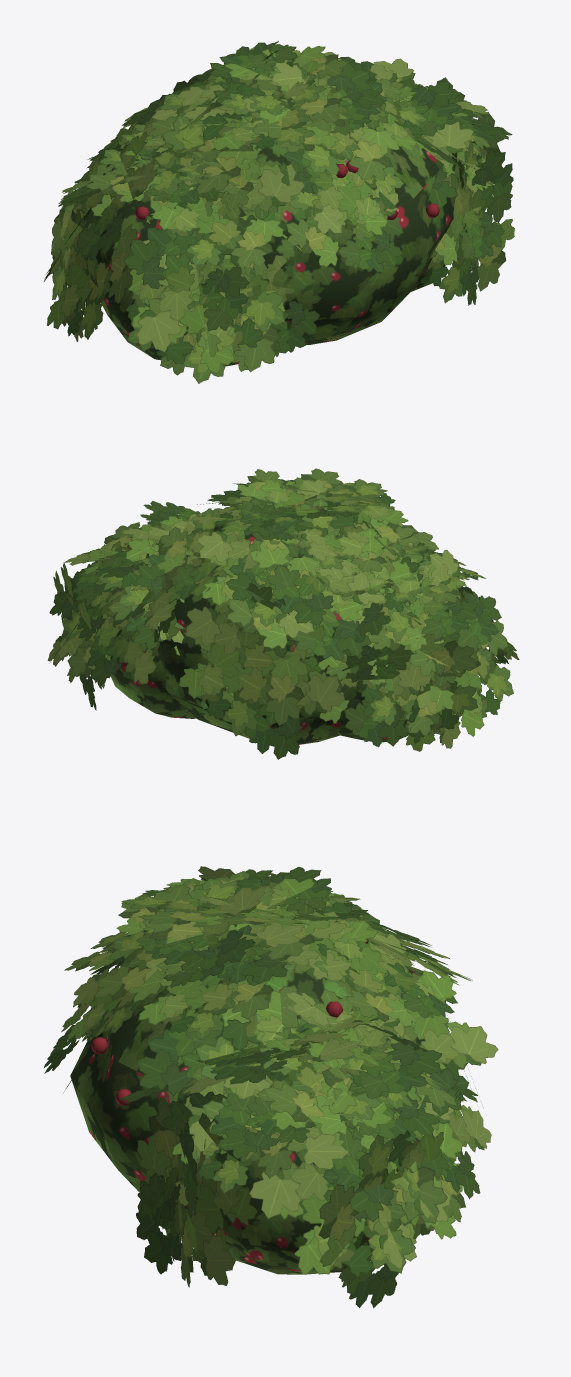
Rendered from bush_berry.glb.
3 views of the same model, one above another, from view 1: azimuth 30°, elevation 25°; view 2: azimuth 150°, elevation 25°; view 3: azimuth 270°, elevation 25° (orthographic). The views are drawn at different scales.
Visible parts, largest first — view 1: model; view 2: model; view 3: model.
Boxes of the visible parts, left/top/right/bottom form: model: left=44, top=41, right=514, bottom=383; model: left=47, top=468, right=519, bottom=759; model: left=43, top=866, right=498, bottom=1308.
Size of the model in its own units: 1.77 by 1.04 by 1.3.
Materials: 3 (2 with a texture image).
